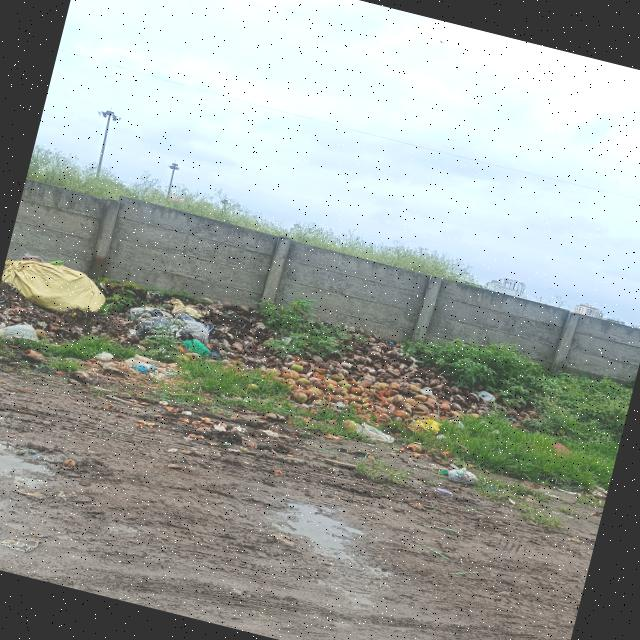garbage: (0, 244, 505, 486)
